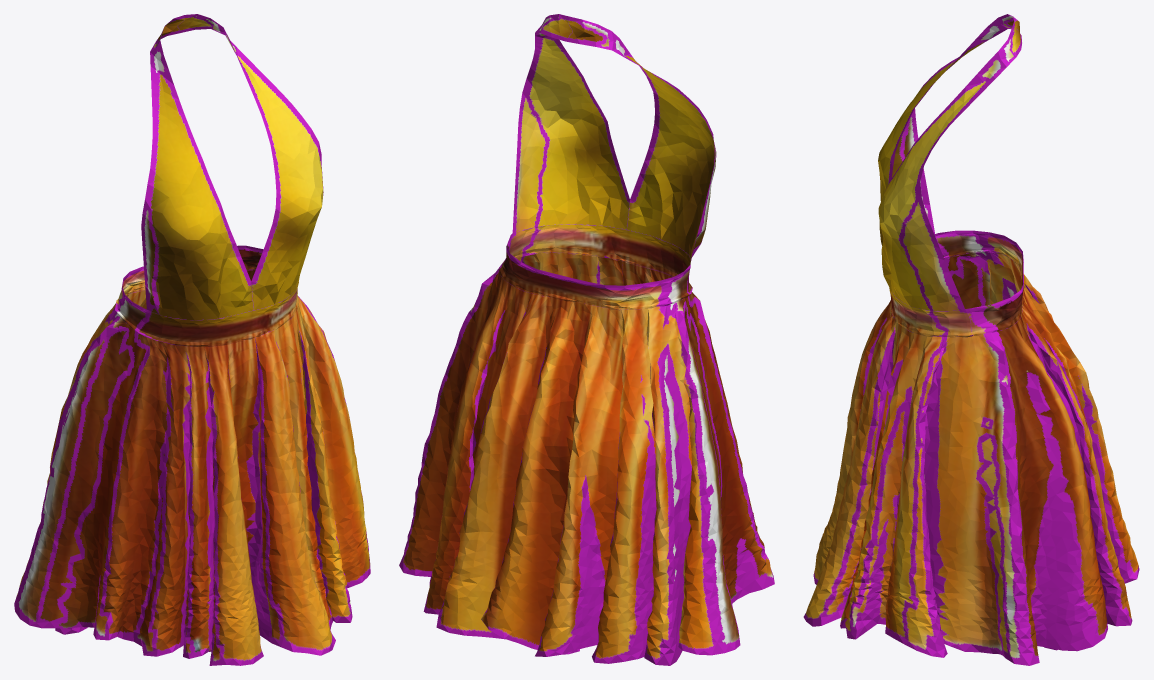
3 renders of one model, left to right at view 1: azimuth 30°, elevation 25°; view 2: azimuth 150°, elevation 25°; view 3: azimuth 270°, elevation 25°, orthographic. The views are drawn at different scales.
Bounding box in the file's own units: 0.4494 × 0.7896 × 0.4058.
1 material, 1 textured.
